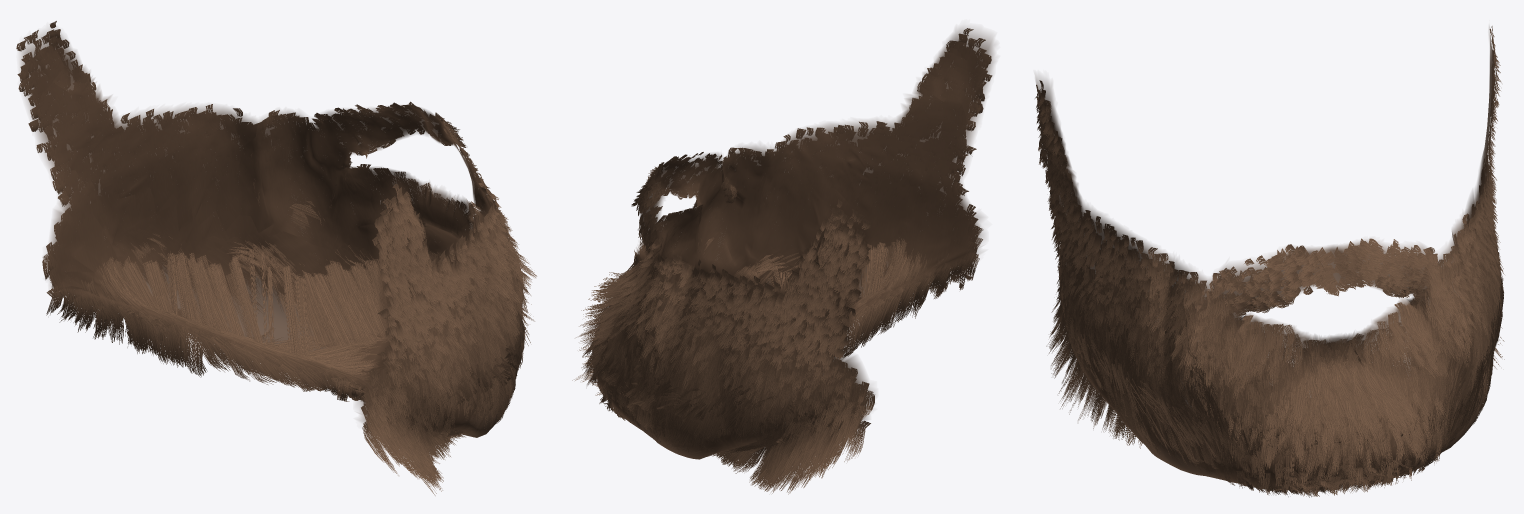
Rendered from beard-m2-full.glb.
3 renders of one model, left to right at view 1: azimuth 30°, elevation 25°; view 2: azimuth 150°, elevation 25°; view 3: azimuth 270°, elevation 25°, orthographic. The views are drawn at different scales.
Visible parts, largest first — view 1: Beard_m2_full_cards, Beard_m2_full_root; view 2: Beard_m2_full_cards, Beard_m2_full_root; view 3: Beard_m2_full_cards, Beard_m2_full_root.
Boxes of the visible parts, box(x1,y1,x2,y2) form: Beard_m2_full_cards: box(16, 21, 536, 495); Beard_m2_full_root: box(20, 28, 521, 437); Beard_m2_full_cards: box(572, 28, 992, 494); Beard_m2_full_root: box(596, 27, 994, 459); Beard_m2_full_cards: box(1035, 26, 1504, 497); Beard_m2_full_root: box(1035, 27, 1495, 487).
Bounding box in the file's own units: 0.1478 × 0.1325 × 0.16.
Materials: 2 (1 with a texture image).
